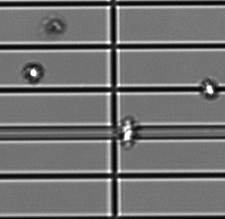Dead Cell: (45, 18, 66, 37)
Living Cell: (121, 122, 136, 147), (201, 79, 218, 100), (24, 63, 42, 82)
